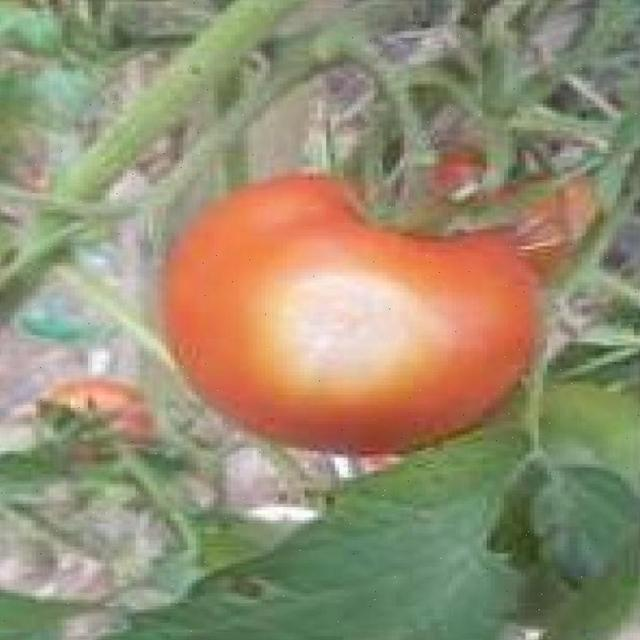Sunscald Fruit: (161, 165, 285, 268)
